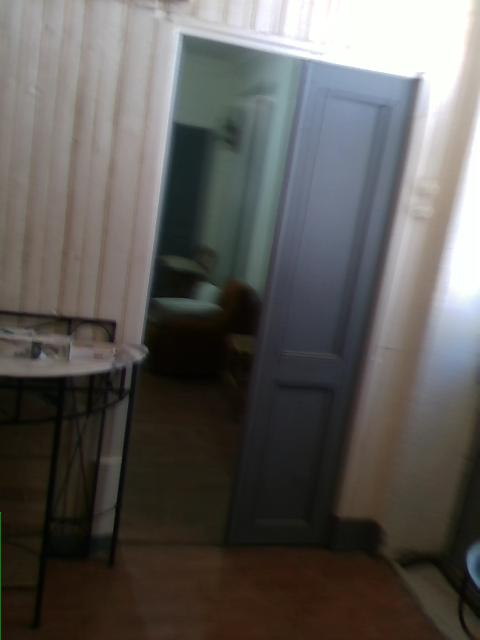door: (230, 61, 421, 548)
